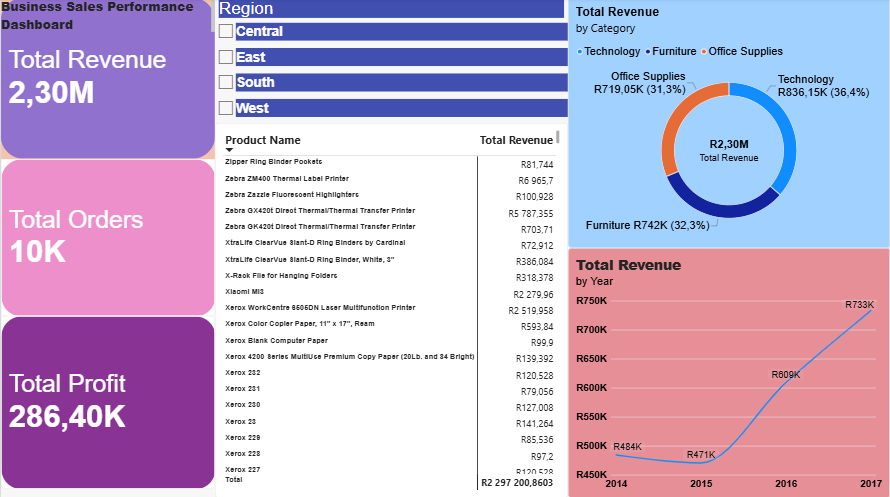

What the dashboard file says about the page in this screenshot:
{"tool":"powerbi","page":{"name":"Page 1","canvas":[1920,1080],"ordinal":0},"visuals":[{"type":"cardVisual","title":"Total Revenue:","fields":{"Data":["Sample - Superstore.Total Revenue"]},"box":[0,0,462.2,347.8],"z":0},{"type":"cardVisual","fields":{"Data":["Sample - Superstore.Total Profit"]},"box":[0,686.9,462.2,373.7],"z":1000},{"type":"cardVisual","title":"Total Orders ","fields":{"Data":["Sample - Superstore.Total Orders"]},"box":[0,347.8,462.2,339.1],"z":2000},{"type":"lineChart","fields":{"Category":["Sample - Superstore.Order Date.Variation.Date Hierarchy.Year","Sample - Superstore.Order Date.Variation.Date Hierarchy.Quarter","Sample - Superstore.Order Date.Variation.Date Hierarchy.Month","Sample - Superstore.Order Date.Variation.Date Hierarchy.Day"],"Y":["Sample - Superstore.Total Revenue"]},"box":[1224.7,540,695.5,540],"z":3000},{"type":"pivotTable","fields":{"Rows":["Sample - Superstore.Product Name"],"Values":["Sample - Superstore.Total Revenue"]},"box":[462.2,270,762.5,810],"z":4000},{"type":"donutChart","fields":{"Category":["Sample - Superstore.Category"],"Y":["Sample - Superstore.Total Revenue"]},"box":[1224.7,0,695.5,540],"z":5000},{"type":"slicer","fields":{"Values":["Sample - Superstore.Region"]},"box":[462.2,0,762.5,283],"z":6000},{"type":"textbox","box":[0,0,462.2,73.4],"z":6001}]}

Visuals, with their boxes in screenshot pixels (x1, y1, x2, y2), scaled from the page's 1920x1080 canvas onto the 890x497 screenshot:
"Total Revenue:" cardVisual: pyautogui.locateOnScreen(0, 0, 214, 160)
cardVisual - Sample - Superstore.Total Profit: pyautogui.locateOnScreen(0, 316, 214, 488)
"Total Orders " cardVisual: pyautogui.locateOnScreen(0, 160, 214, 316)
lineChart - Sample - Superstore.Order Date.Variation.Date Hierarchy.Year x Sample - Superstore.Order Date.Variation.Date Hierarchy.Quarter: pyautogui.locateOnScreen(568, 248, 889, 496)
pivotTable - Sample - Superstore.Product Name x Sample - Superstore.Total Revenue: pyautogui.locateOnScreen(214, 124, 568, 496)
donutChart - Sample - Superstore.Category x Sample - Superstore.Total Revenue: pyautogui.locateOnScreen(568, 0, 889, 248)
slicer - Sample - Superstore.Region: pyautogui.locateOnScreen(214, 0, 568, 130)
textbox: pyautogui.locateOnScreen(0, 0, 214, 34)
